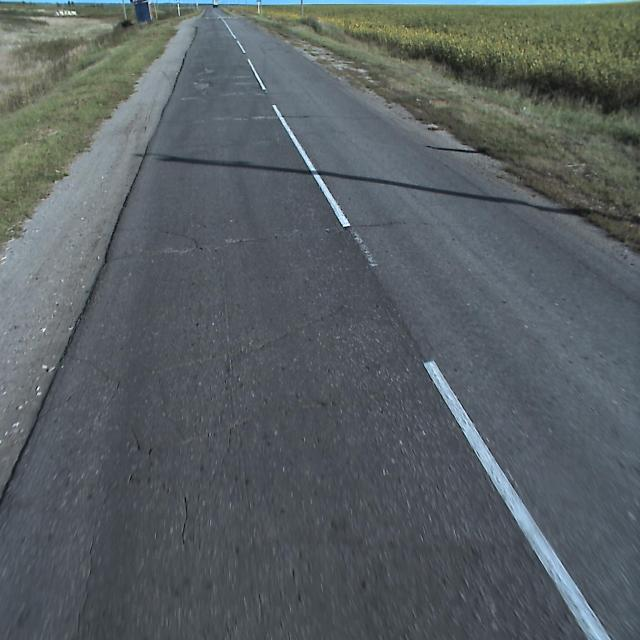road: (0, 7, 640, 639)
